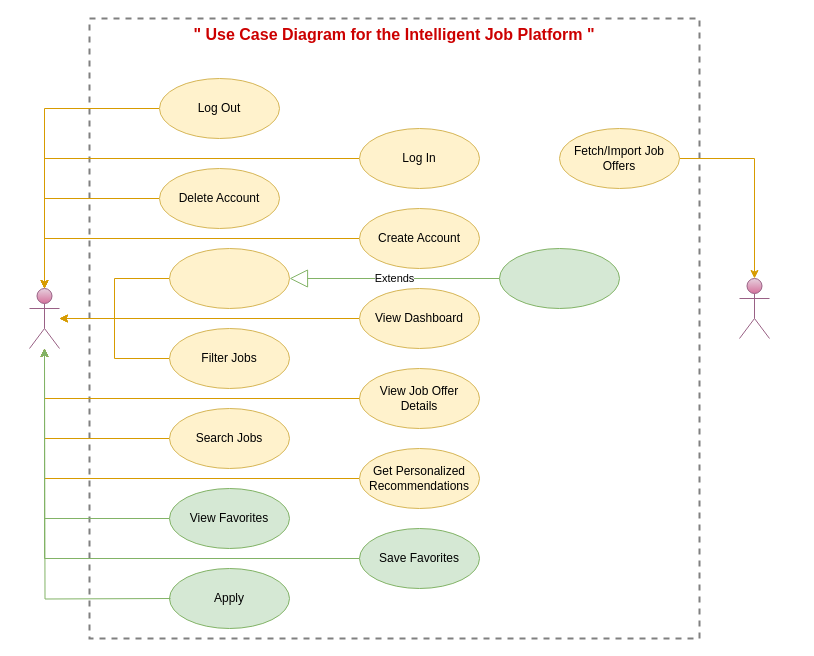
Some shapes in this 814 by 656 pixel diagram are drawn without their labels. Here are the shapes that lost their labels. From the top down, the centre of each, then its label:
At point (229, 278): "Complete Profile".
At point (559, 278): "Upload Resume".
At point (44, 318): "Candidate".
At point (754, 308): "External Source".
